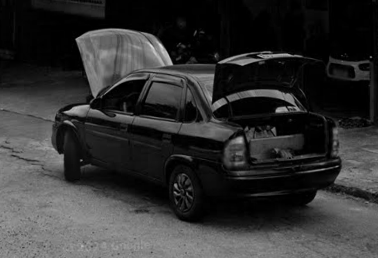car: (53, 28, 344, 225)
